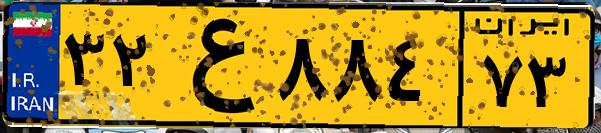2: (110, 28, 158, 98)
3: (57, 26, 110, 100), (525, 38, 570, 115)
4: (385, 28, 445, 110)
7: (475, 38, 525, 113)
8: (270, 28, 330, 110), (330, 28, 385, 110)
ع: (158, 12, 270, 120)
